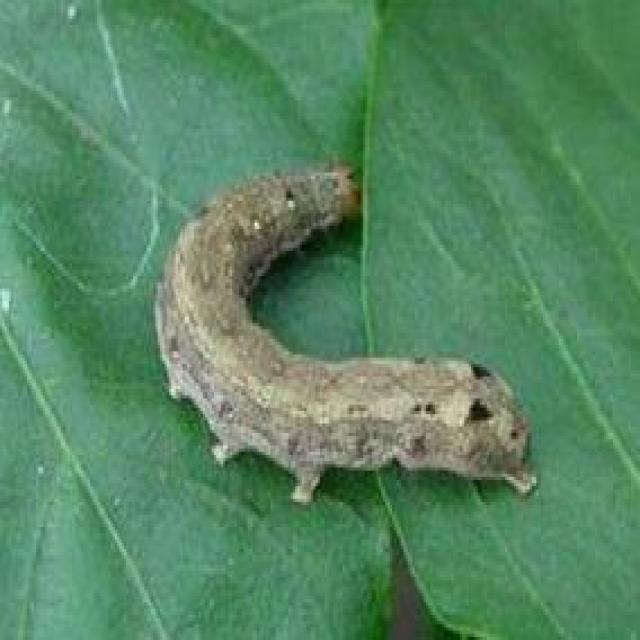BeetArmyWorm-Larva-: (156, 161, 544, 501)
